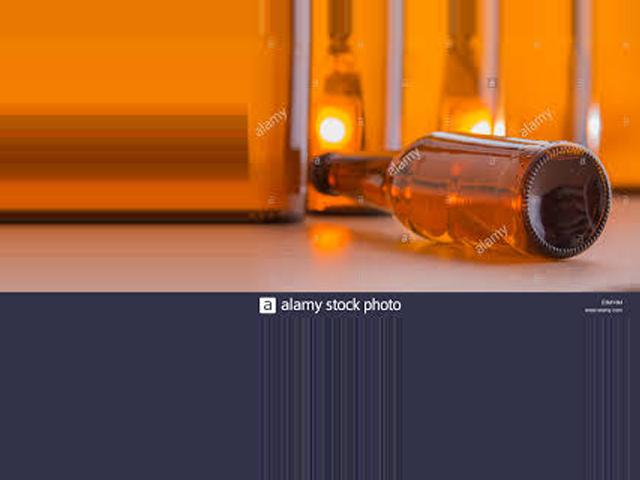beer: (314, 130, 612, 265)
